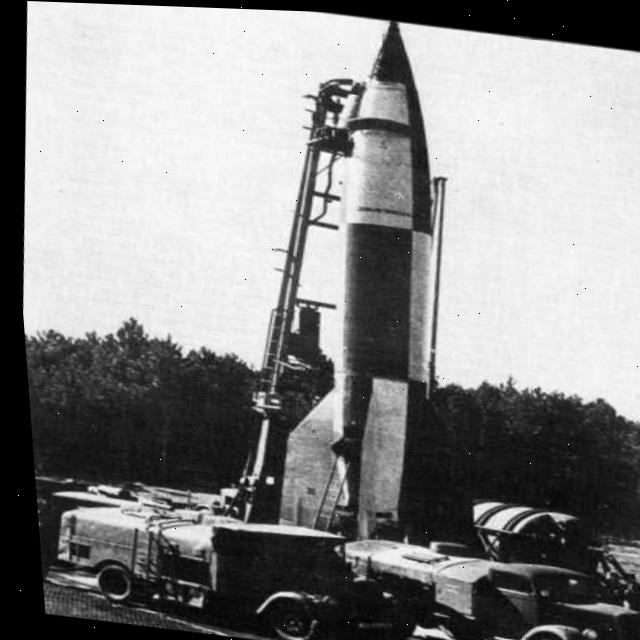missile: (260, 10, 476, 535)
